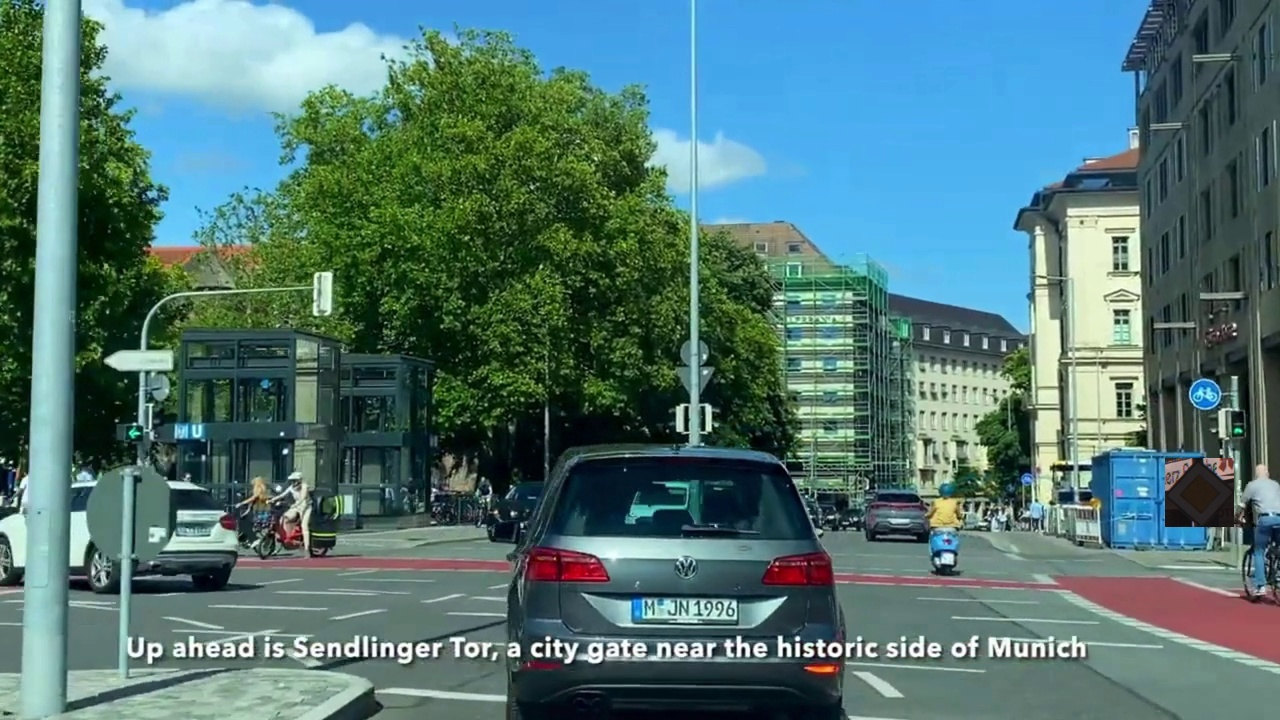Priority road: (1165, 458, 1234, 527)
